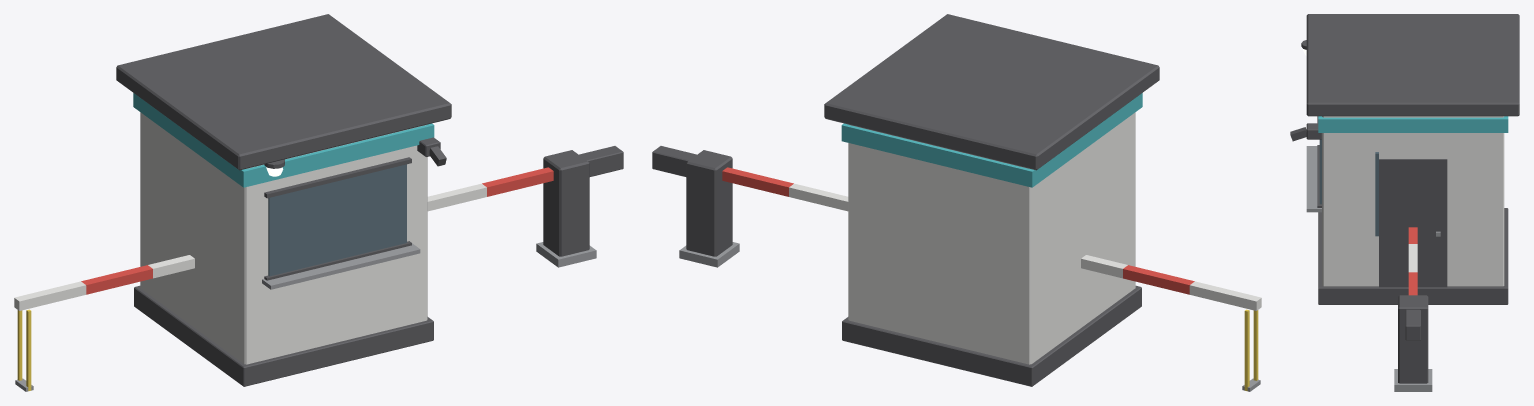
File: gatehouse.glb
3 views of the same model, side by side, from view 1: azimuth 30°, elevation 25°; view 2: azimuth 150°, elevation 25°; view 3: azimuth 270°, elevation 25° (orthographic). The views are drawn at different scales.
Parts seen in each view (by area): view 1: gh_hut_mesh, gh_barrier_mesh; view 2: gh_hut_mesh, gh_barrier_mesh; view 3: gh_hut_mesh, gh_barrier_mesh.
Part boxes in pixels (x1,y1,x2,y2): gh_hut_mesh: (116, 14, 451, 386); gh_barrier_mesh: (14, 146, 623, 391); gh_hut_mesh: (824, 14, 1159, 386); gh_barrier_mesh: (652, 146, 1261, 391); gh_hut_mesh: (1290, 14, 1519, 304); gh_barrier_mesh: (1394, 227, 1432, 391).
Bounding box in the file's own units: 7.9 × 3 × 3.02.
